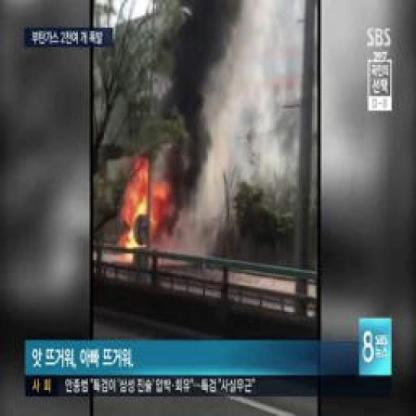fire: (114, 144, 171, 264)
